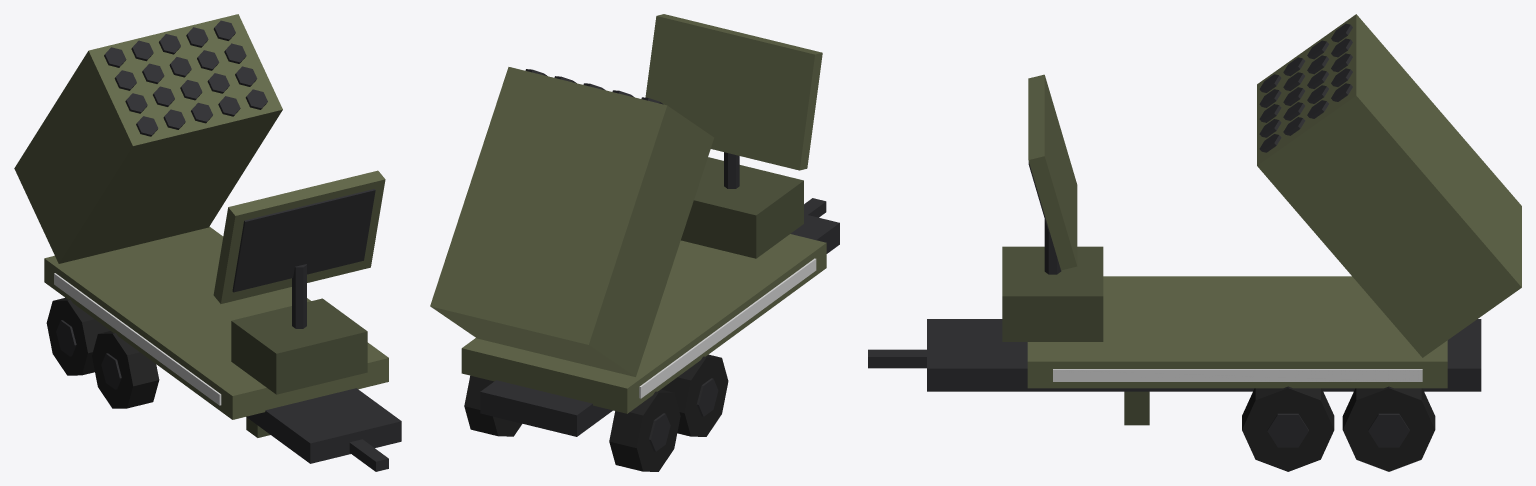
Rendered from iron_dome.glb.
3 views of the same model, side by side, from view 1: azimuth 30°, elevation 25°; view 2: azimuth 150°, elevation 25°; view 3: azimuth 270°, elevation 25° (orthographic). The views are drawn at different scales.
Parts seen in each view (by area): view 1: Body; view 2: Body; view 3: Body.
Boxes of the visible parts, x1,y1,x2,y2 form: Body: (14,14,401,471); Body: (430,14,839,471); Body: (868,14,1521,471).
Bounding box in the file's own units: 2.56 × 4.9 × 7.78.
